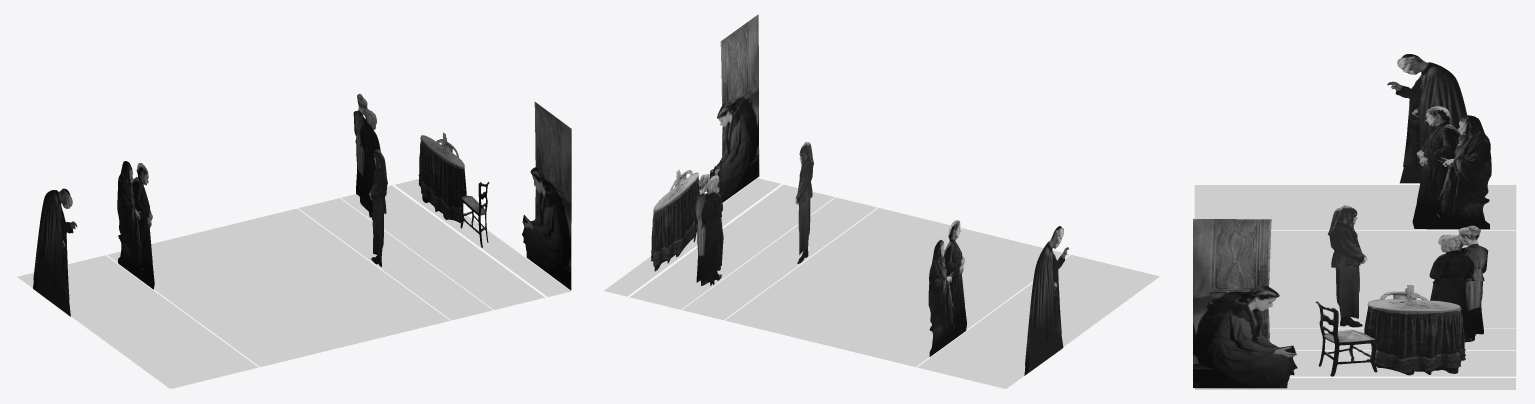
The picture shows the model from 3 angles, left to right: view 1: azimuth 30°, elevation 25°; view 2: azimuth 150°, elevation 25°; view 3: azimuth 270°, elevation 25°; orthographic projection. The views are drawn at different scales.
Parts seen in each view (by area): view 1: 8 terra taula, Plane.001, Plane, 1 noia asseguda, 9 terra dona sola, 2 Taula, 6 Mossen, 5 dones fons, 7 terra noia, 3 dones primeres, 4 dona sola; view 2: 8 terra taula, Plane.001, Plane, 1 noia asseguda, 9 terra dona sola, 6 Mossen, 5 dones fons, 2 Taula, 3 dones primeres, 7 terra noia, 4 dona sola; view 3: 8 terra taula, 1 noia asseguda, Plane.001, 2 Taula, 5 dones fons, 6 Mossen, 3 dones primeres, Plane, 4 dona sola, 7 terra noia, 9 terra dona sola.
Boxes of the visible parts, left/top/right/bottom form: 8 terra taula: left=107, top=208, right=450, bottom=366; Plane.001: left=17, top=255, right=258, bottom=388; Plane: left=341, top=185, right=544, bottom=309; 1 noia asseguda: left=522, top=102, right=571, bottom=290; 9 terra dona sola: left=298, top=198, right=492, bottom=320; 2 Taula: left=418, top=132, right=489, bottom=247; 6 Mossen: left=33, top=188, right=77, bottom=316; 5 dones fons: left=117, top=161, right=154, bottom=289; 7 terra noia: left=395, top=179, right=570, bottom=296; 3 dones primeres: left=353, top=93, right=380, bottom=219; 4 dona sola: left=369, top=149, right=387, bottom=266; 8 terra taula: left=725, top=208, right=1069, bottom=366; Plane.001: left=917, top=254, right=1159, bottom=388; Plane: left=630, top=184, right=834, bottom=309; 1 noia asseguda: left=709, top=14, right=759, bottom=202; 9 terra dona sola: left=682, top=197, right=877, bottom=320; 6 Mossen: left=1024, top=226, right=1069, bottom=375; 5 dones fons: left=928, top=220, right=966, bottom=356; 2 Taula: left=651, top=154, right=723, bottom=271; 3 dones primeres: left=695, top=174, right=723, bottom=285; 7 terra noia: left=604, top=178, right=780, bottom=296; 4 dona sola: left=795, top=142, right=813, bottom=263; 8 terra taula: left=1268, top=231, right=1516, bottom=328; 1 noia asseguda: left=1193, top=219, right=1297, bottom=388; Plane.001: left=1194, top=185, right=1516, bottom=230; 2 Taula: left=1315, top=285, right=1465, bottom=376; 5 dones fons: left=1412, top=106, right=1491, bottom=229; 6 Mossen: left=1387, top=54, right=1467, bottom=183; 3 dones primeres: left=1429, top=225, right=1488, bottom=342; Plane: left=1289, top=350, right=1516, bottom=376; 4 dona sola: left=1327, top=205, right=1367, bottom=327; 7 terra noia: left=1194, top=378, right=1515, bottom=389; 9 terra dona sola: left=1269, top=328, right=1516, bottom=349.
Bounding box in the file's own units: 21.55 × 8.3 × 14.47.
11 materials, 6 textured.
